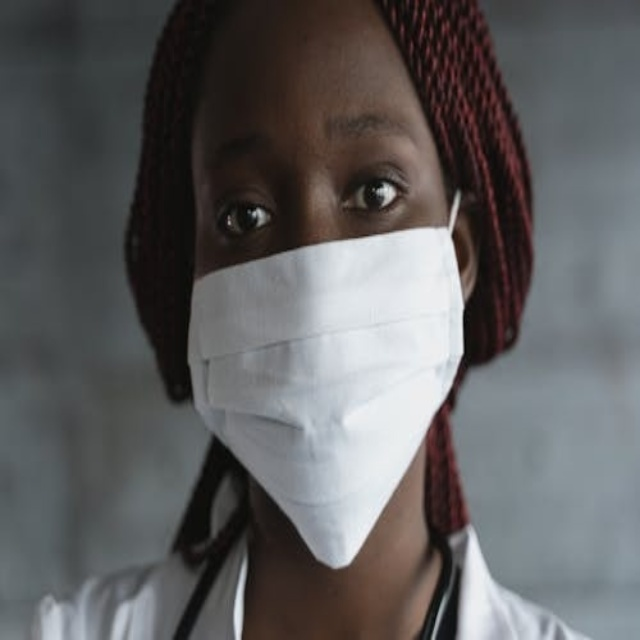Mascara: (189, 202, 468, 567)
Sin_gafas: (209, 183, 279, 240), (342, 172, 408, 215)
